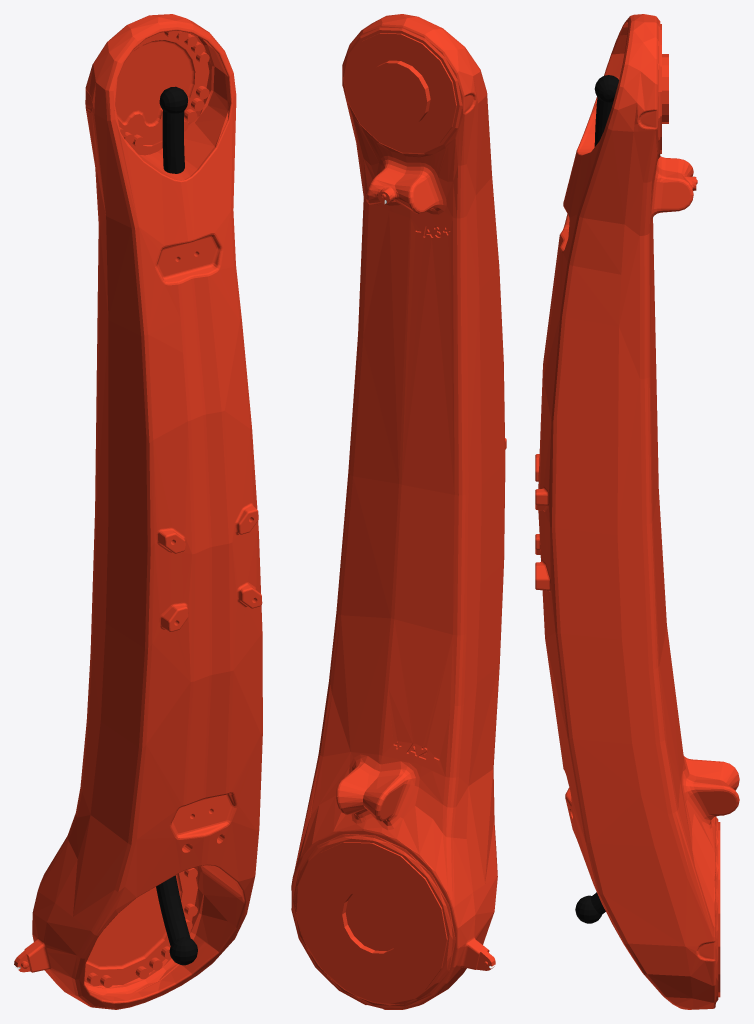
3 renders of one model, left to right at view 1: azimuth 30°, elevation 25°; view 2: azimuth 150°, elevation 25°; view 3: azimuth 270°, elevation 25°, orthographic. The views are drawn at different scales.
Parts seen in each view (by area): view 1: link_2; view 2: link_2; view 3: link_2.
Part boxes in pixels (<box>): link_2: <box>14,14,262,1009</box>; link_2: <box>291,14,506,1009</box>; link_2: <box>535,14,739,1009</box>.
Size of the model in its own units: 0.3265 by 0.2912 by 1.54.
